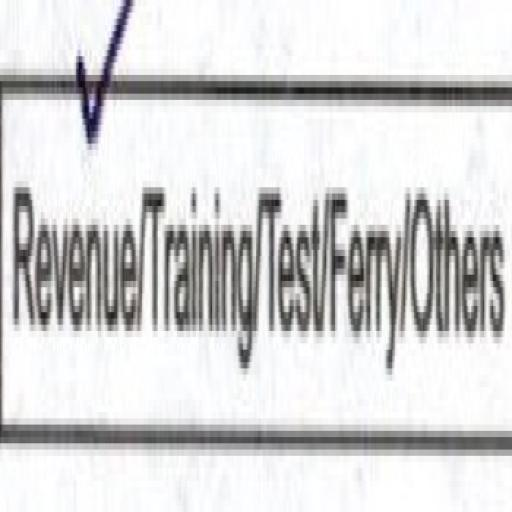check: (0, 0, 140, 431)
